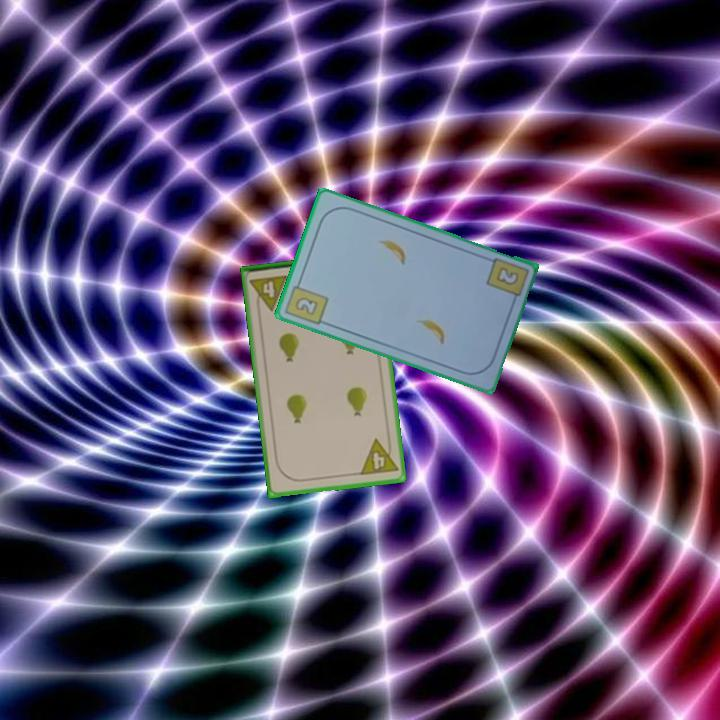2b: (282, 275, 331, 328), (492, 263, 521, 289)
4p: (356, 434, 401, 478), (247, 271, 291, 314)
